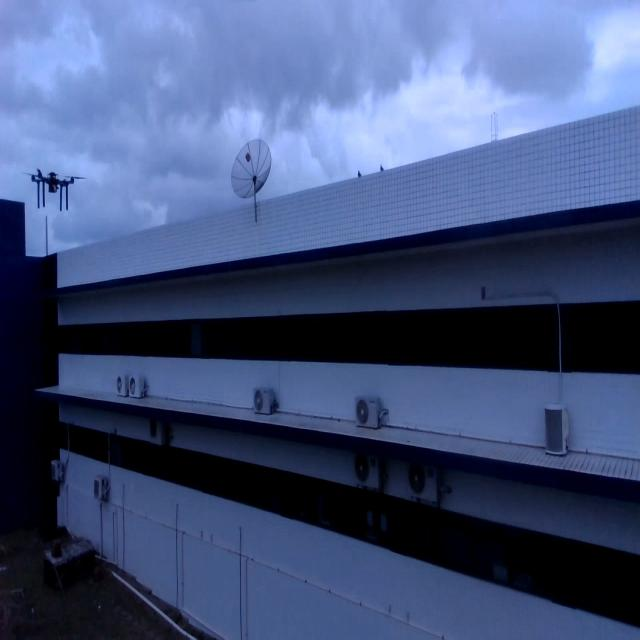-uav-: (27, 142, 86, 242)
